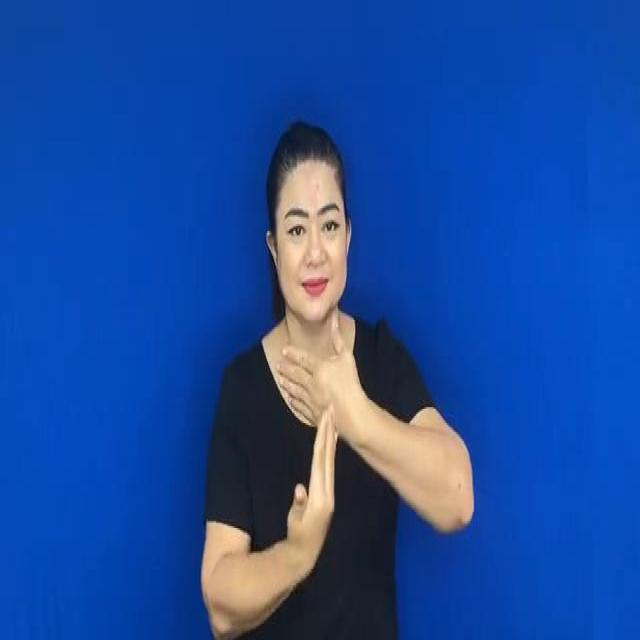bread: (270, 320, 362, 588)
